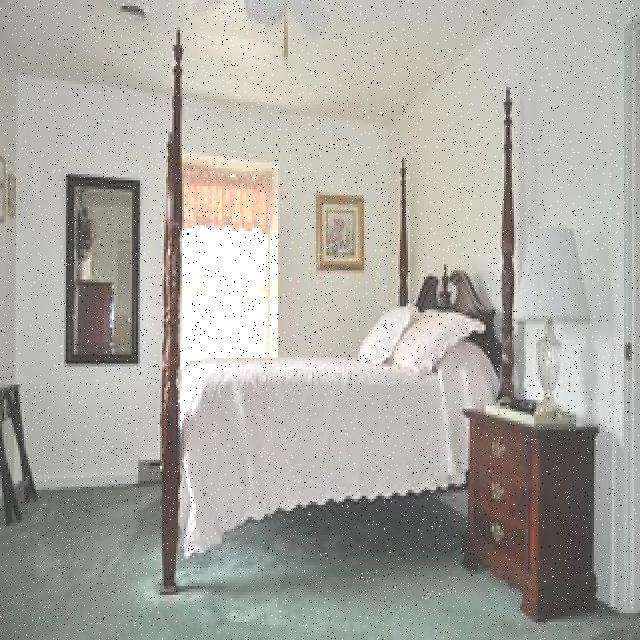bed: (182, 300, 483, 542)
